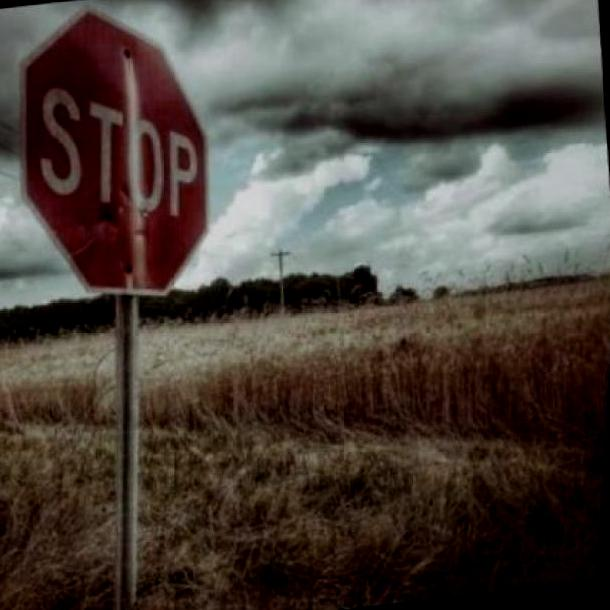stop_sign: (0, 0, 236, 313)
